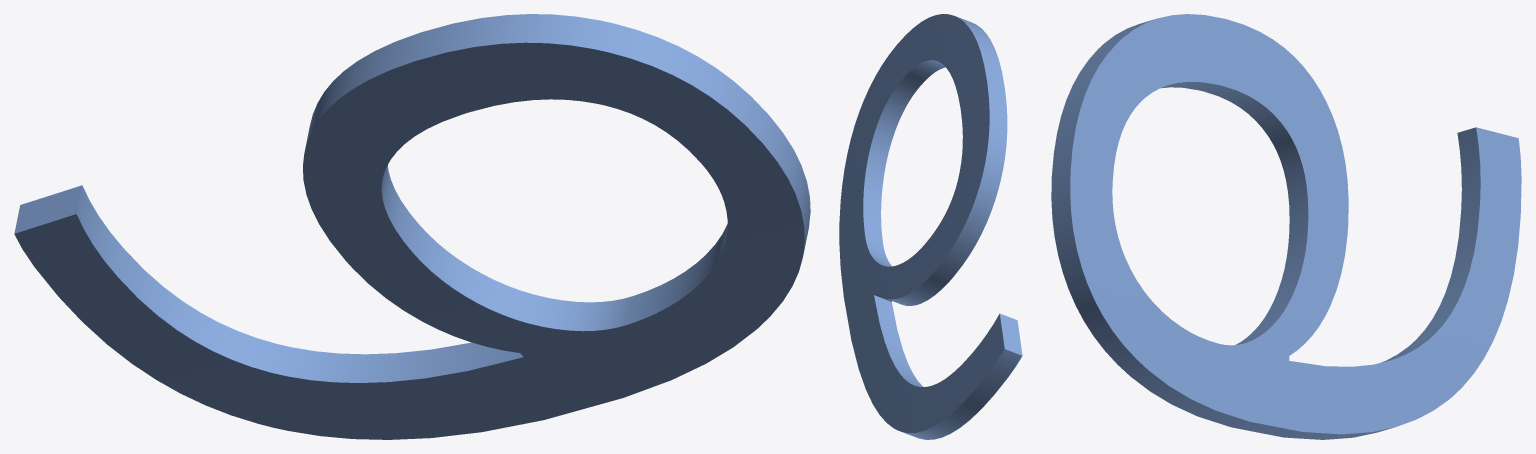
Rendered from New_Number_9.gltf.
3 renders of one model, left to right at view 1: azimuth 30°, elevation 25°; view 2: azimuth 150°, elevation 25°; view 3: azimuth 270°, elevation 25°, orthographic. The views are drawn at different scales.
Parts seen in each view (by area): view 1: Part 180; view 2: Part 180; view 3: Part 180.
Part boxes in pixels (bbox=[...]): Part 180: bbox=[14, 14, 810, 439]; Part 180: bbox=[839, 14, 1022, 439]; Part 180: bbox=[1051, 14, 1521, 439].
Size of the model in its own units: 0.00442 by 0.00417 by 0.00424.
